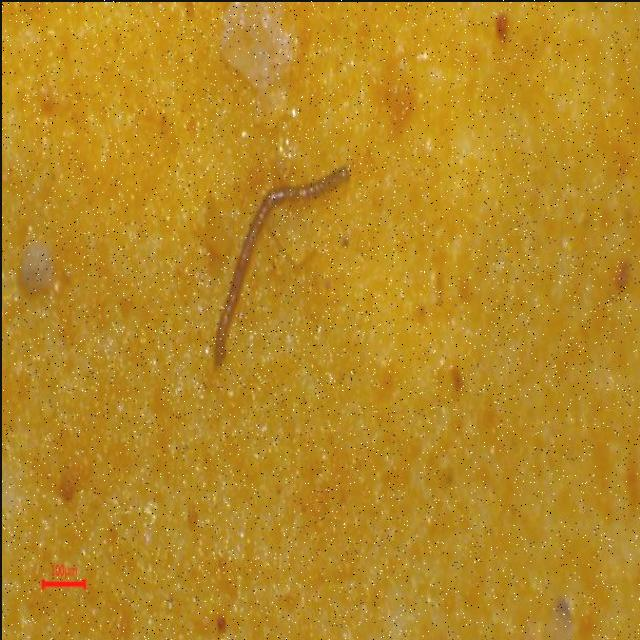Fibre: (200, 154, 354, 372)
